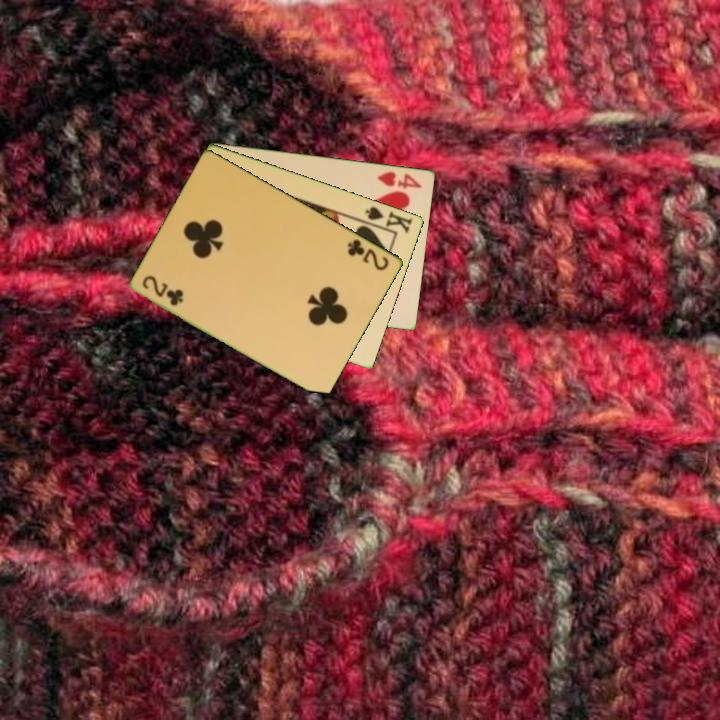2c: (344, 235, 392, 273), (139, 271, 187, 309)
4h: (374, 168, 425, 191)
Ks: (358, 203, 416, 236)
